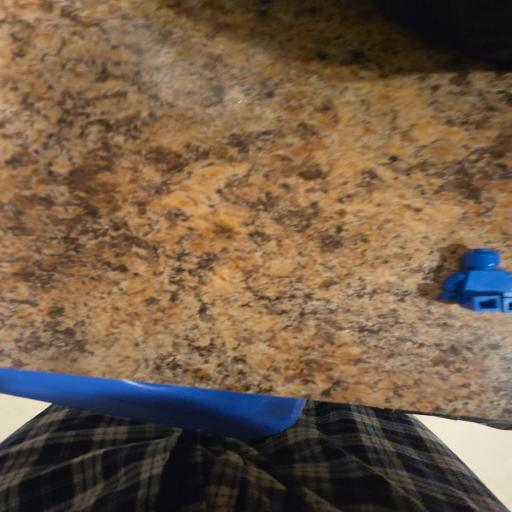Blue: (439, 249, 512, 312)
